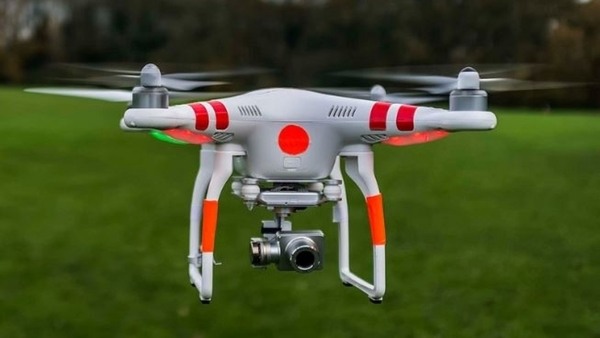drone: (23, 57, 578, 306)
